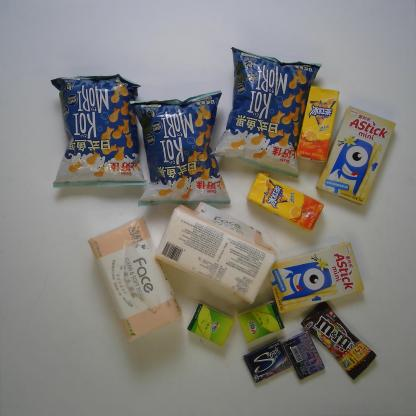Chocolate: (300, 300, 376, 382)
Dessert: (317, 105, 397, 206), (266, 242, 364, 316)
Drink: (248, 171, 324, 229), (296, 83, 342, 161)
Gum: (244, 340, 292, 384), (285, 331, 325, 380)
Puffed Food: (206, 44, 322, 177), (128, 90, 231, 206), (47, 74, 147, 188)
Tissue: (154, 202, 278, 306), (88, 217, 182, 343), (185, 301, 235, 348), (236, 301, 287, 345)
